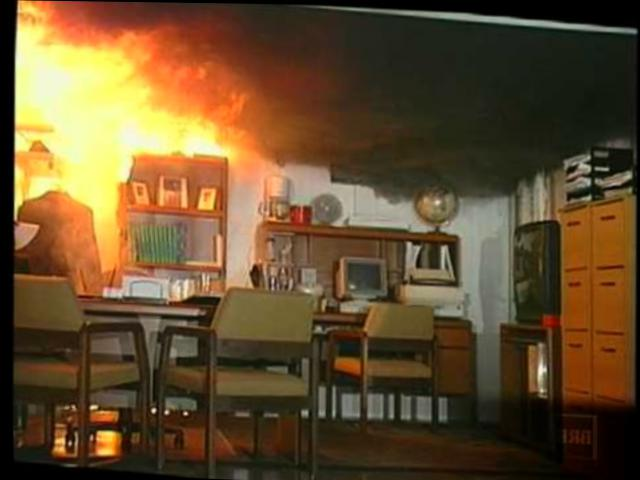fire: (10, 13, 211, 222)
